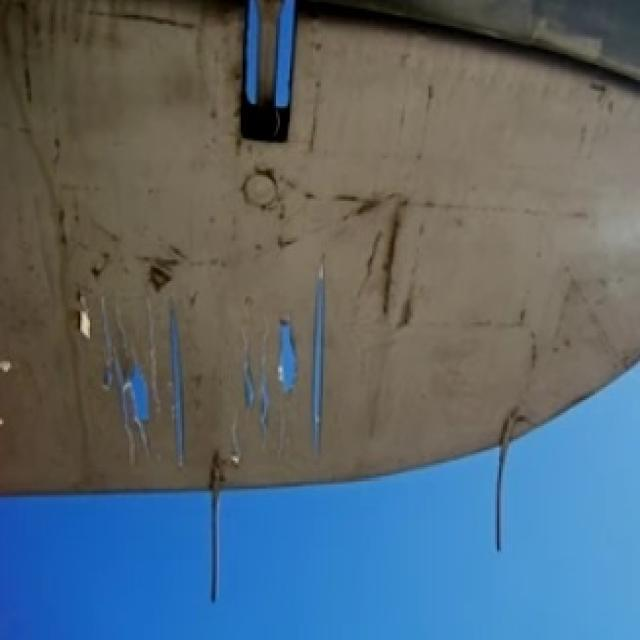crack: (85, 254, 330, 468)
